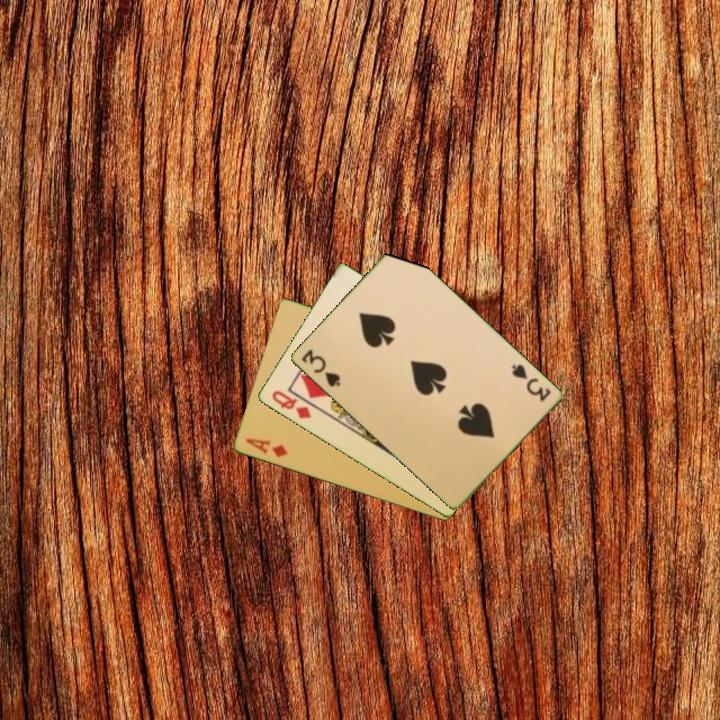3s: (507, 360, 554, 405), (297, 346, 343, 390)
Ad: (242, 435, 291, 461)
Qd: (268, 387, 314, 422)
